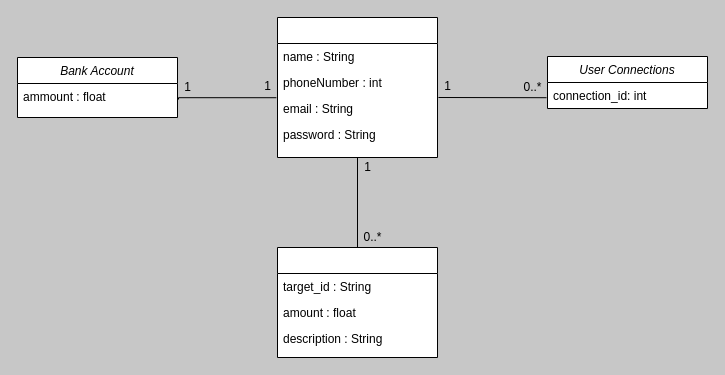
Image size: 725x375. Some labels were removed from this diagram. Here are the shapes that lost their labels. From the top down, the box of each, then its label:
(276, 16, 438, 158): User
(276, 246, 438, 358): Payment
